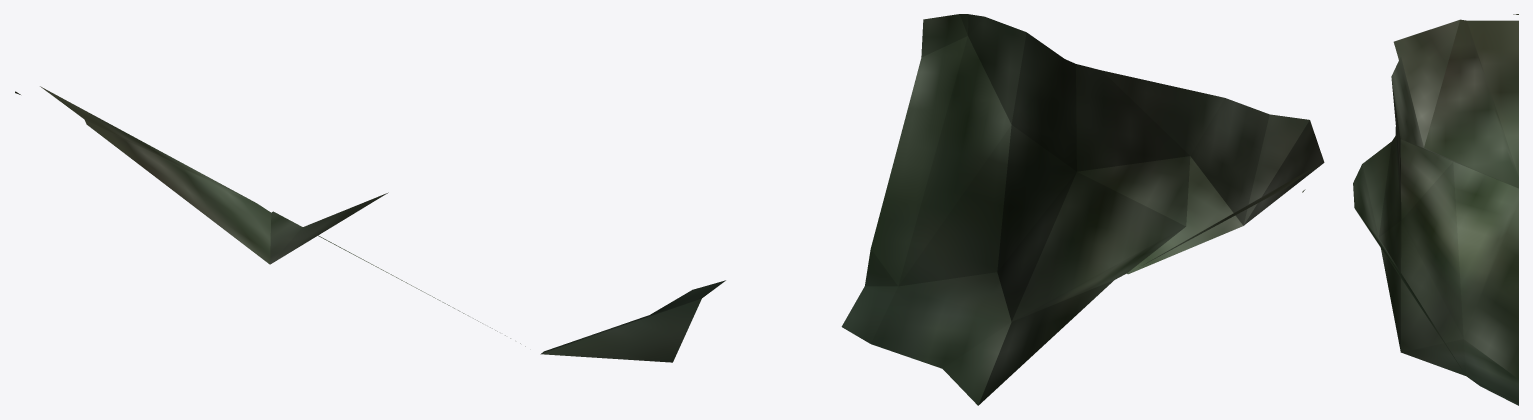
3 renders of one model, left to right at view 1: azimuth 30°, elevation 25°; view 2: azimuth 150°, elevation 25°; view 3: azimuth 270°, elevation 25°, orthographic. The views are drawn at different scales.
Bounding box in the file's own units: 0.3429 × 0.2082 × 0.1288.
1 material, 1 textured.
